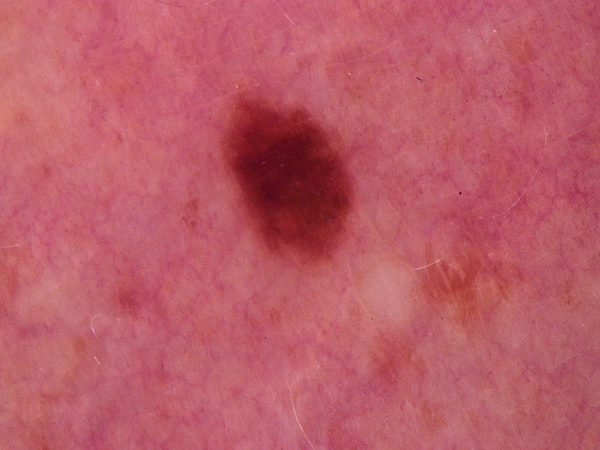Detected Lesion: (219, 92, 360, 268)
